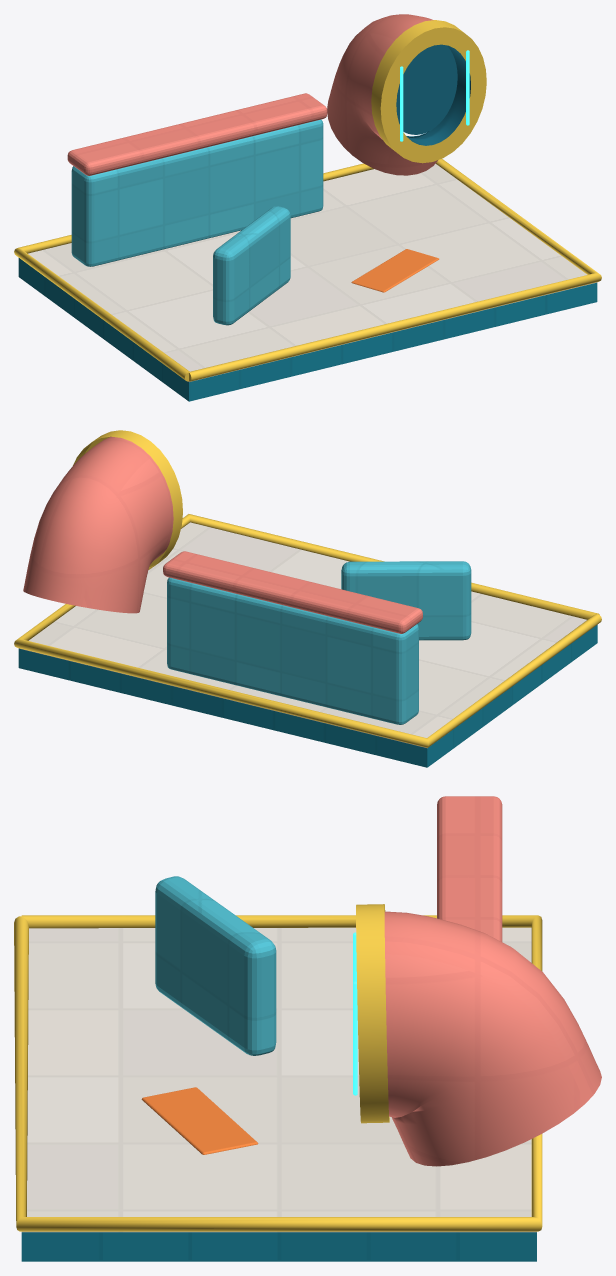
File: twin_bays_splash_arena_hero_kit.glb
3 views of the same model, one above another, from view 1: azimuth 30°, elevation 25°; view 2: azimuth 150°, elevation 25°; view 3: azimuth 270°, elevation 25° (orthographic). The views are drawn at different scales.
Visible parts, largest first — view 1: Hero_TBSA_DryCream, Hero_TBSA_Cyan, Hero_TBSA_SafetyYellow, Hero_TBSA_CoralSoft, Hero_TBSA_CyanDark, Hero_TBSA_PortalRecess, Hero_TBSA_PickupOrange, Hero_TBSA_PortalCyan; view 2: Hero_TBSA_Cyan, Hero_TBSA_CoralSoft, Hero_TBSA_DryCream, Hero_TBSA_CyanDark, Hero_TBSA_SafetyYellow; view 3: Hero_TBSA_DryCream, Hero_TBSA_CoralSoft, Hero_TBSA_SafetyYellow, Hero_TBSA_CyanDark, Hero_TBSA_Cyan, Hero_TBSA_PickupOrange, Hero_TBSA_PortalCyan.
Part boxes in pixels (bbox=[...]): Hero_TBSA_DryCream: bbox=[28, 163, 596, 381]; Hero_TBSA_Cyan: bbox=[71, 119, 323, 325]; Hero_TBSA_SafetyYellow: bbox=[14, 20, 601, 381]; Hero_TBSA_CoralSoft: bbox=[67, 14, 437, 175]; Hero_TBSA_CyanDark: bbox=[18, 258, 597, 401]; Hero_TBSA_PortalRecess: bbox=[396, 44, 470, 145]; Hero_TBSA_PickupOrange: bbox=[351, 249, 439, 292]; Hero_TBSA_PortalCyan: bbox=[400, 50, 469, 141]; Hero_TBSA_Cyan: bbox=[167, 561, 471, 724]; Hero_TBSA_CoralSoft: bbox=[23, 436, 422, 633]; Hero_TBSA_DryCream: bbox=[19, 522, 586, 748]; Hero_TBSA_CyanDark: bbox=[18, 625, 597, 767]; Hero_TBSA_SafetyYellow: bbox=[14, 430, 601, 747]; Hero_TBSA_DryCream: bbox=[22, 927, 536, 1232]; Hero_TBSA_CoralSoft: bbox=[384, 796, 601, 1166]; Hero_TBSA_SafetyYellow: bbox=[14, 904, 542, 1231]; Hero_TBSA_CyanDark: bbox=[21, 1232, 536, 1261]; Hero_TBSA_Cyan: bbox=[155, 876, 276, 1055]; Hero_TBSA_PickupOrange: bbox=[141, 1087, 258, 1154]; Hero_TBSA_PortalCyan: bbox=[353, 932, 357, 1095].
Bounding box in the file's own units: 18.32 × 8.68 × 14.83.
8 materials, 4 textured.
